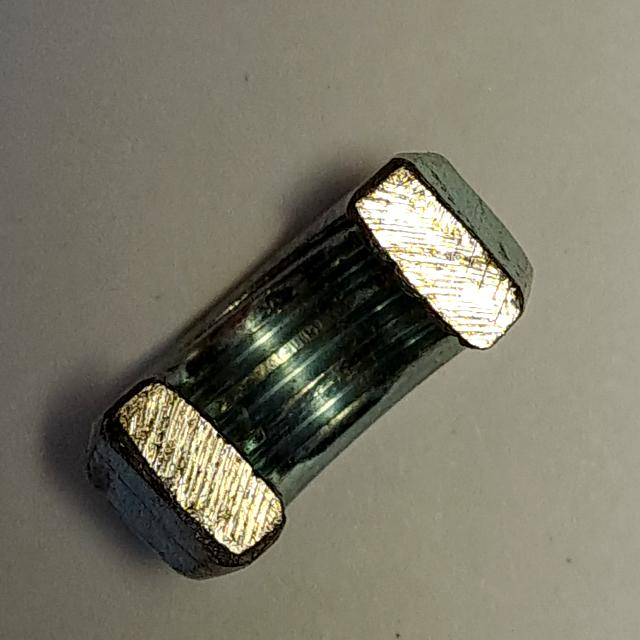Side-Fracture: (68, 137, 547, 591)
